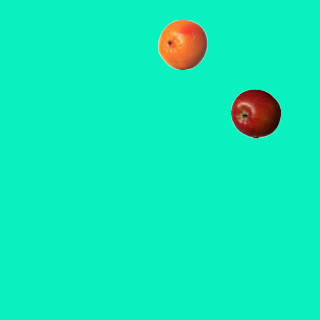Apple Braeburn: (230, 88, 280, 138)
Grapefruit Pink: (157, 19, 207, 69)
